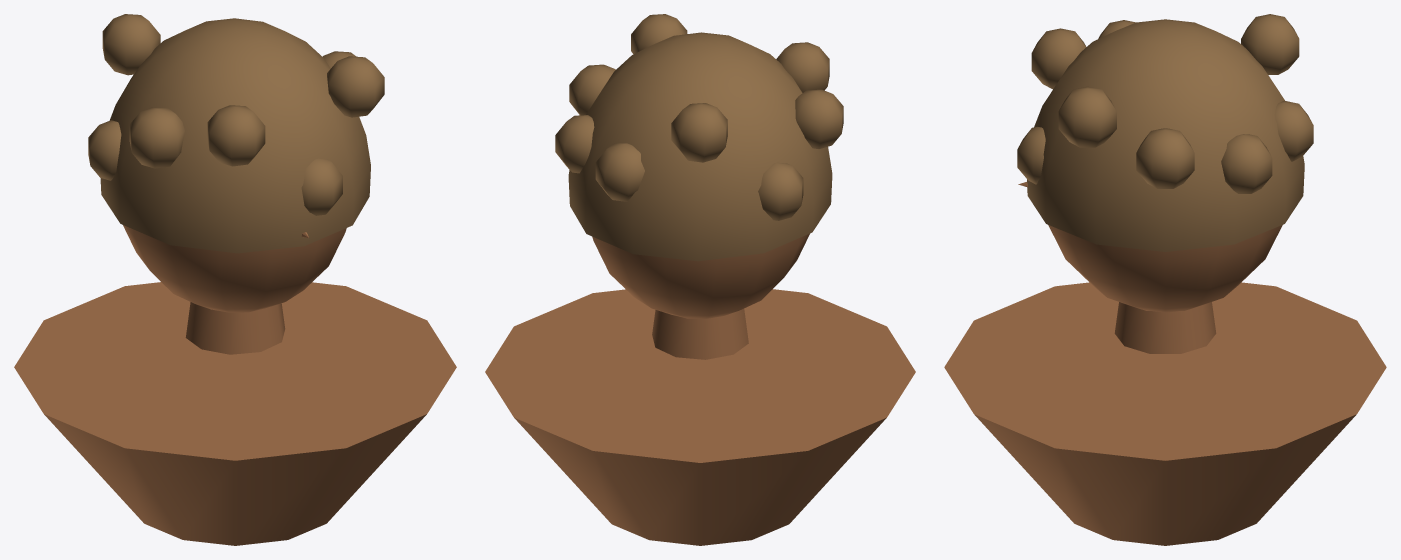
The model's file is raw_001.glb.
3 renders of one model, left to right at view 1: azimuth 30°, elevation 25°; view 2: azimuth 150°, elevation 25°; view 3: azimuth 270°, elevation 25°, orthographic. The views are drawn at different scales.
Bounding box in the file's own units: 1.83 × 2.15 × 1.83.
